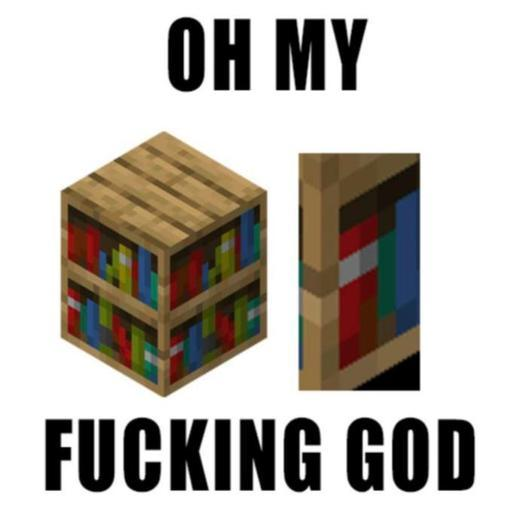Crewmate: (333, 212, 379, 368), (168, 334, 182, 386)
